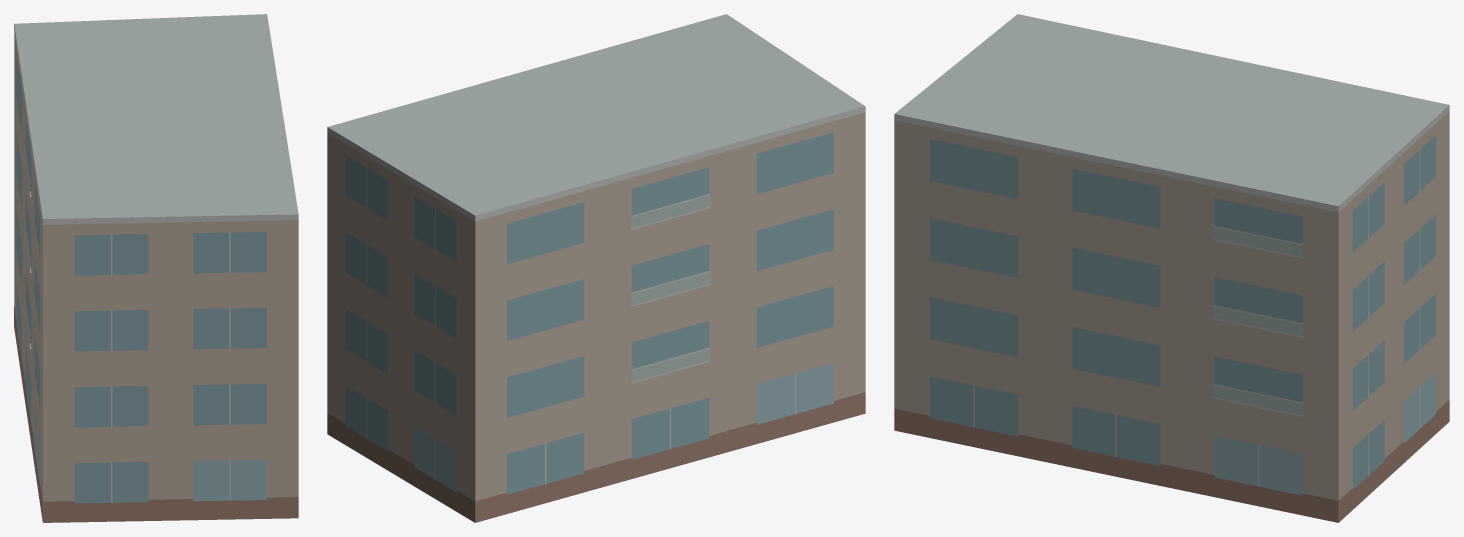
File: survey-upis-32670765.glb
The picture shows the model from 3 angles, left to right: view 1: azimuth 30°, elevation 25°; view 2: azimuth 150°, elevation 25°; view 3: azimuth 270°, elevation 25°; orthographic projection. The views are drawn at different scales.
Visible parts, largest first — view 1: survey-upis-32670765.tmp; view 2: survey-upis-32670765.tmp; view 3: survey-upis-32670765.tmp.
Part boxes in pixels (x1=…): survey-upis-32670765.tmp: x1=14, y1=14, x2=298, y2=522; survey-upis-32670765.tmp: x1=327, y1=14, x2=865, y2=522; survey-upis-32670765.tmp: x1=894, y1=14, x2=1449, y2=522.
Size of the model in its own units: 16.49 by 12.65 by 20.12.
